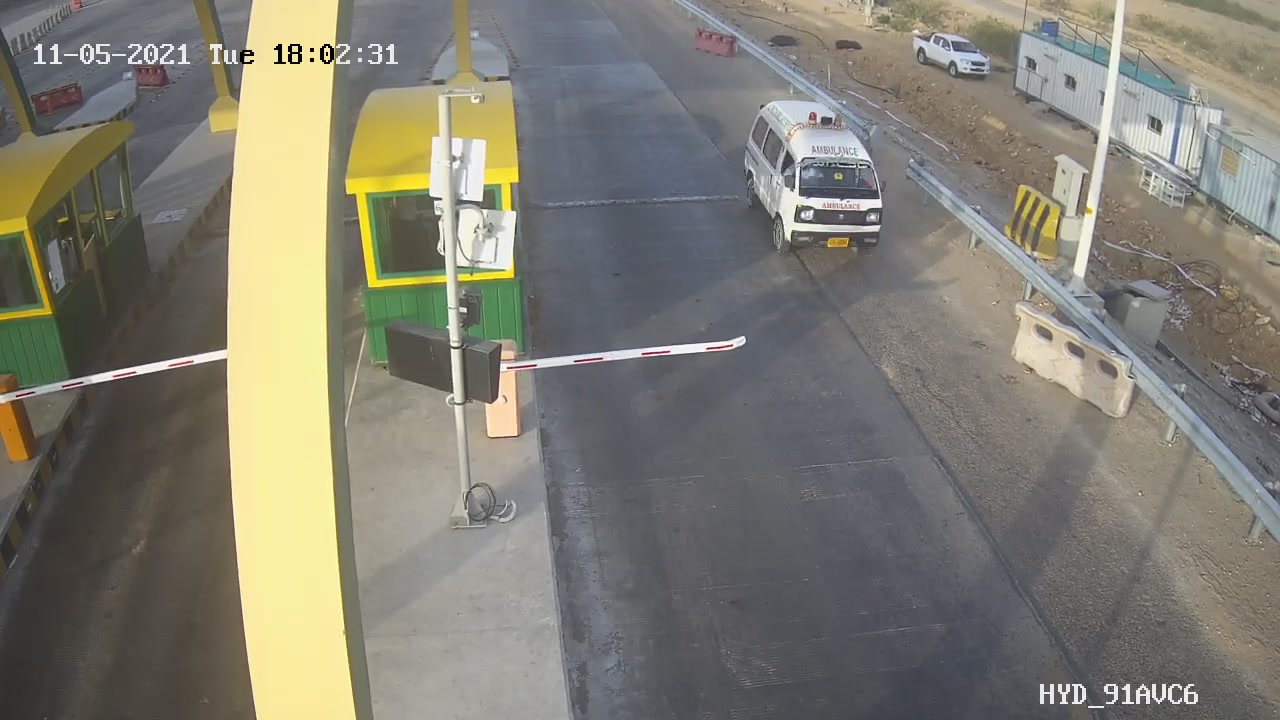F1: (733, 90, 903, 266)
